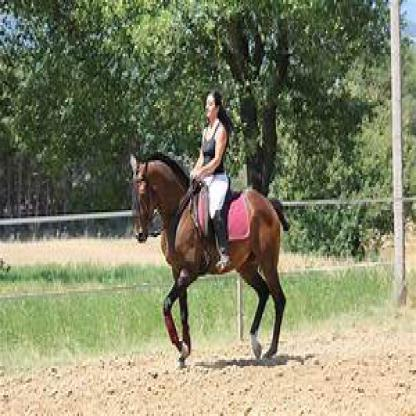horse: (130, 152, 287, 366)
